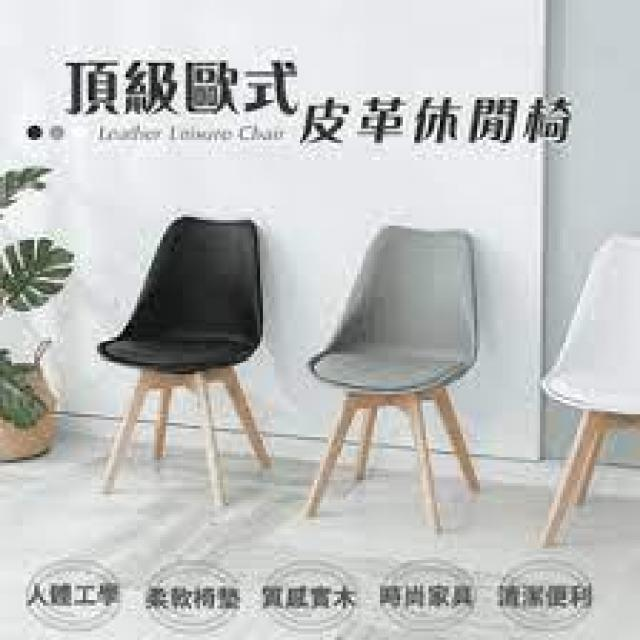chair: (91, 186, 640, 548)
